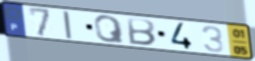3: (201, 25, 225, 53)
4: (170, 21, 195, 52)
7: (27, 6, 52, 38)
B: (126, 16, 157, 47)
I: (61, 10, 74, 40)
Q: (93, 14, 127, 45)
